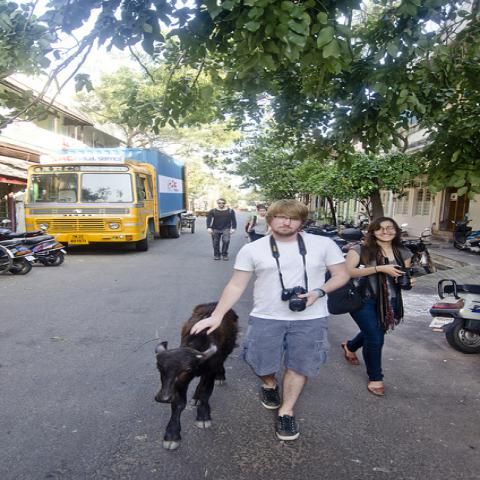motorcycle: (428, 278, 479, 357), (401, 228, 437, 274), (14, 235, 68, 265), (450, 212, 479, 254), (1, 243, 36, 274), (303, 230, 346, 246), (306, 220, 355, 232)
truck: (24, 148, 189, 252)
